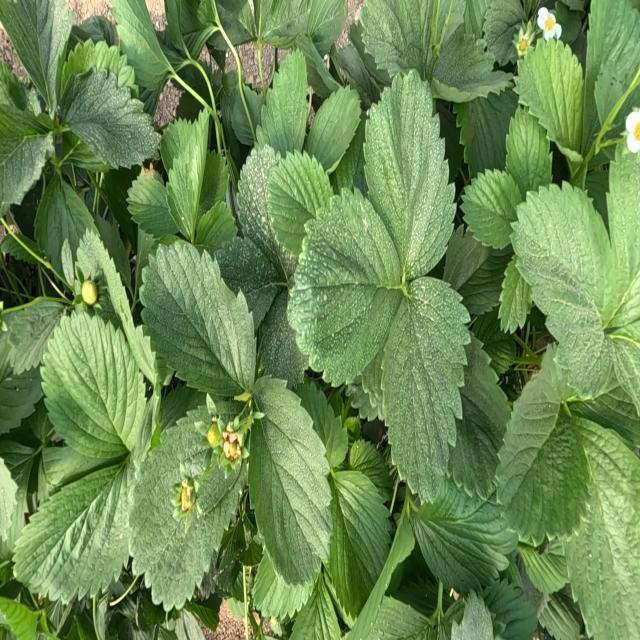Flowers: (537, 8, 561, 39), (624, 111, 639, 151)
Leaves: (130, 404, 243, 608), (290, 191, 402, 383), (511, 184, 612, 396), (381, 281, 469, 502), (364, 75, 454, 279), (13, 457, 134, 602), (141, 243, 254, 395), (249, 385, 331, 591), (565, 412, 639, 637), (42, 314, 148, 468), (496, 370, 586, 541), (410, 478, 516, 592), (325, 470, 390, 623), (64, 69, 159, 168), (452, 342, 511, 501), (346, 510, 415, 639), (1, 0, 74, 112), (516, 39, 584, 154), (1, 62, 51, 207), (34, 169, 94, 288), (586, 1, 639, 135), (267, 151, 332, 254), (360, 0, 440, 78), (442, 226, 511, 315), (605, 151, 639, 331), (162, 110, 208, 240), (216, 238, 281, 328), (433, 36, 511, 102), (259, 50, 307, 156), (458, 90, 516, 177), (110, 0, 167, 88), (235, 144, 279, 255), (1, 297, 64, 374), (259, 289, 307, 387), (461, 170, 522, 247), (253, 549, 317, 622), (307, 86, 360, 173), (61, 39, 138, 95), (505, 105, 551, 198), (299, 381, 347, 466), (290, 573, 340, 639), (127, 172, 177, 238), (484, 580, 537, 639), (94, 214, 131, 293), (472, 308, 515, 374), (517, 541, 569, 594), (367, 596, 431, 639), (483, 0, 525, 64), (223, 84, 264, 146), (258, 0, 311, 47), (609, 335, 640, 415), (349, 440, 391, 497), (305, 0, 347, 57), (194, 201, 237, 254), (1, 458, 23, 559), (391, 570, 438, 617), (335, 46, 373, 102), (538, 593, 584, 639), (199, 151, 228, 217), (215, 0, 256, 46), (165, 0, 200, 53), (0, 597, 37, 639), (72, 15, 118, 46), (0, 234, 45, 263), (179, 68, 210, 103), (173, 84, 202, 119), (176, 608, 206, 639), (211, 129, 216, 149)
Strawberries: (176, 480, 194, 511), (223, 440, 240, 464), (80, 281, 97, 304), (206, 424, 221, 447)
